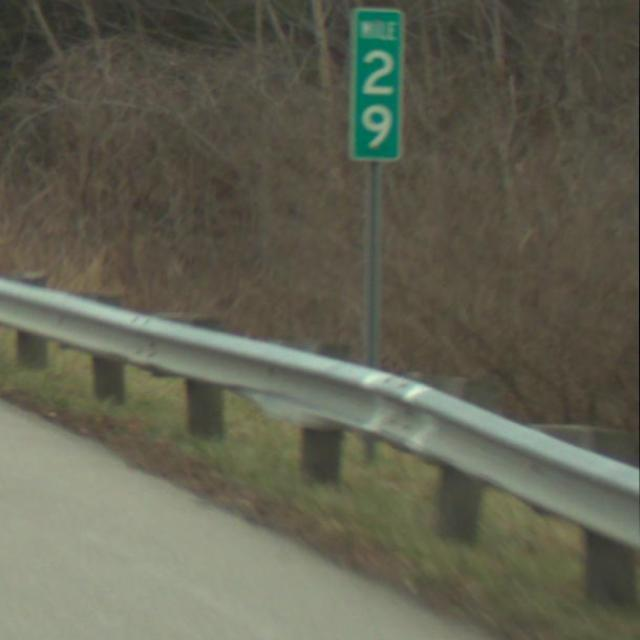Guard rail: (1, 263, 640, 618)
